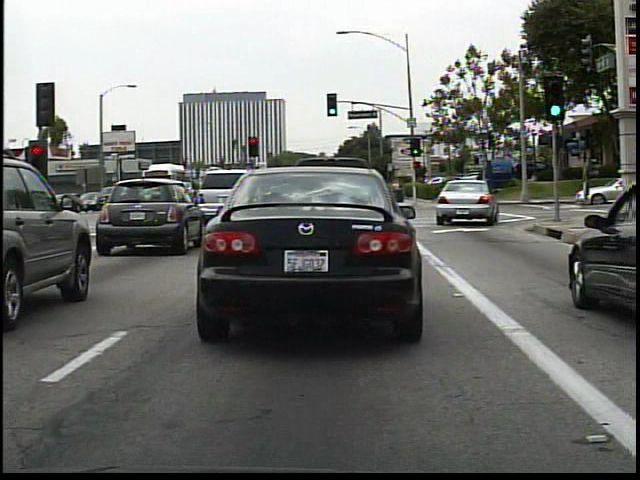person: (386, 174, 406, 209)
